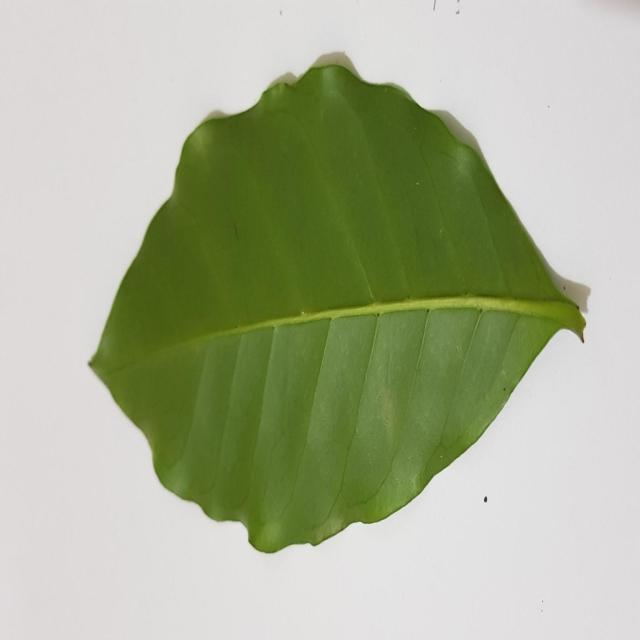Sanas: (88, 54, 591, 557)
